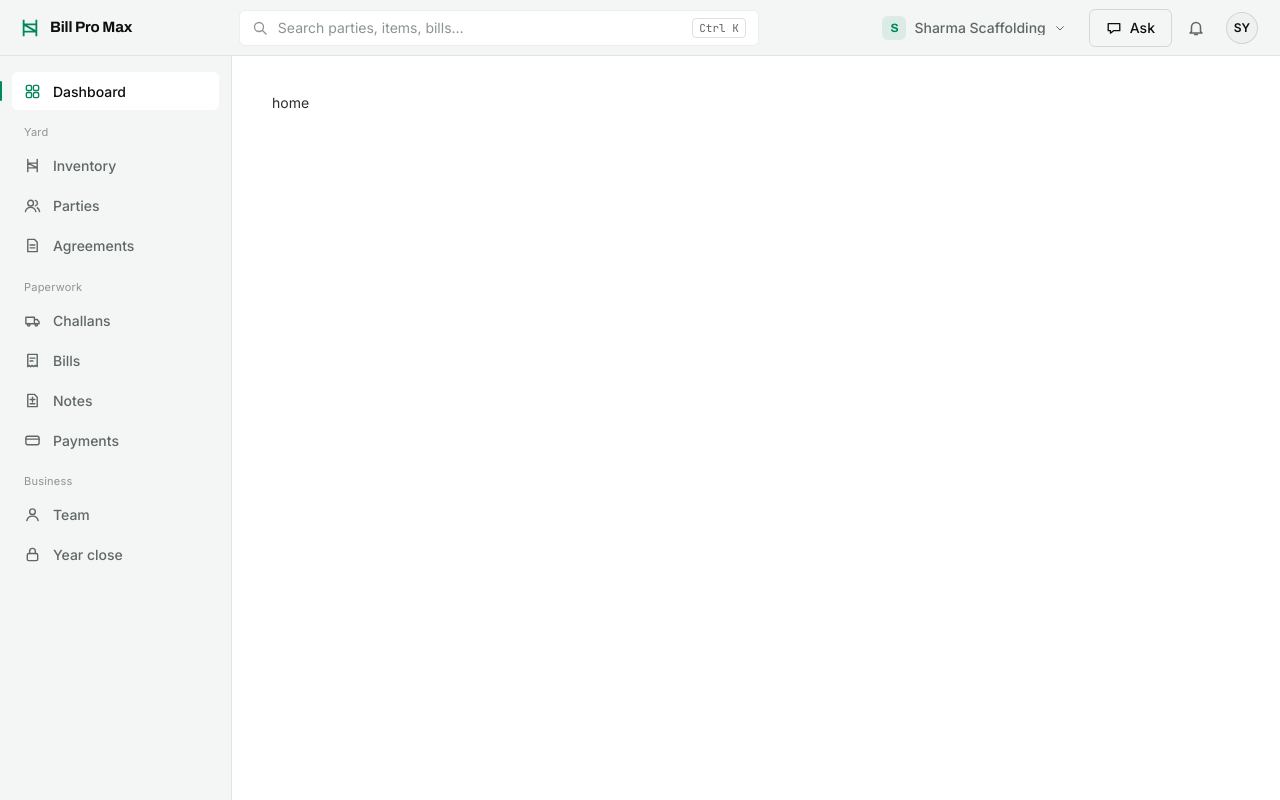
Layout › opens and closes the assistant from the Ask button
Click the button "Ask". click: (1130, 28)
box: [1089,8,1172,46]
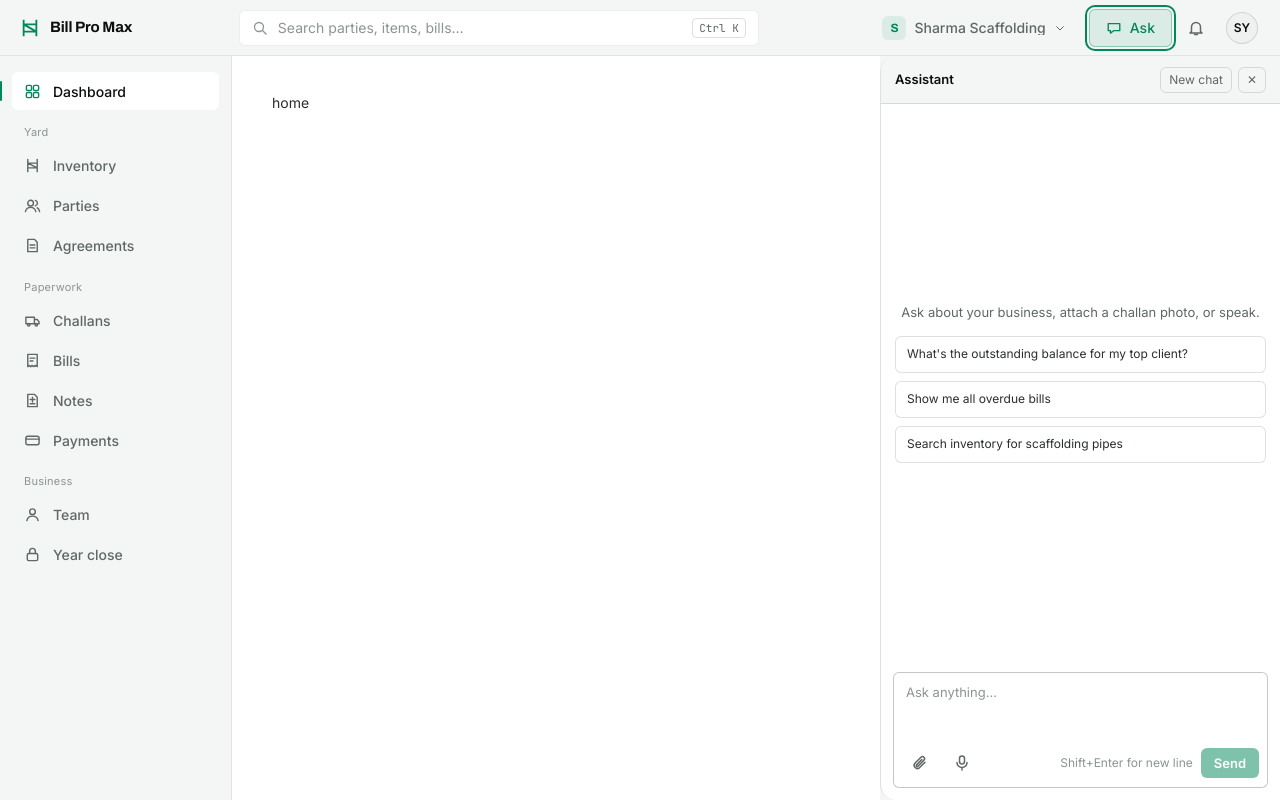
Expected: the element named "AI assistant" is shown, [880,56,1279,799]
Click the button "Ask". click: (1130, 28)
box: [1089,8,1172,46]
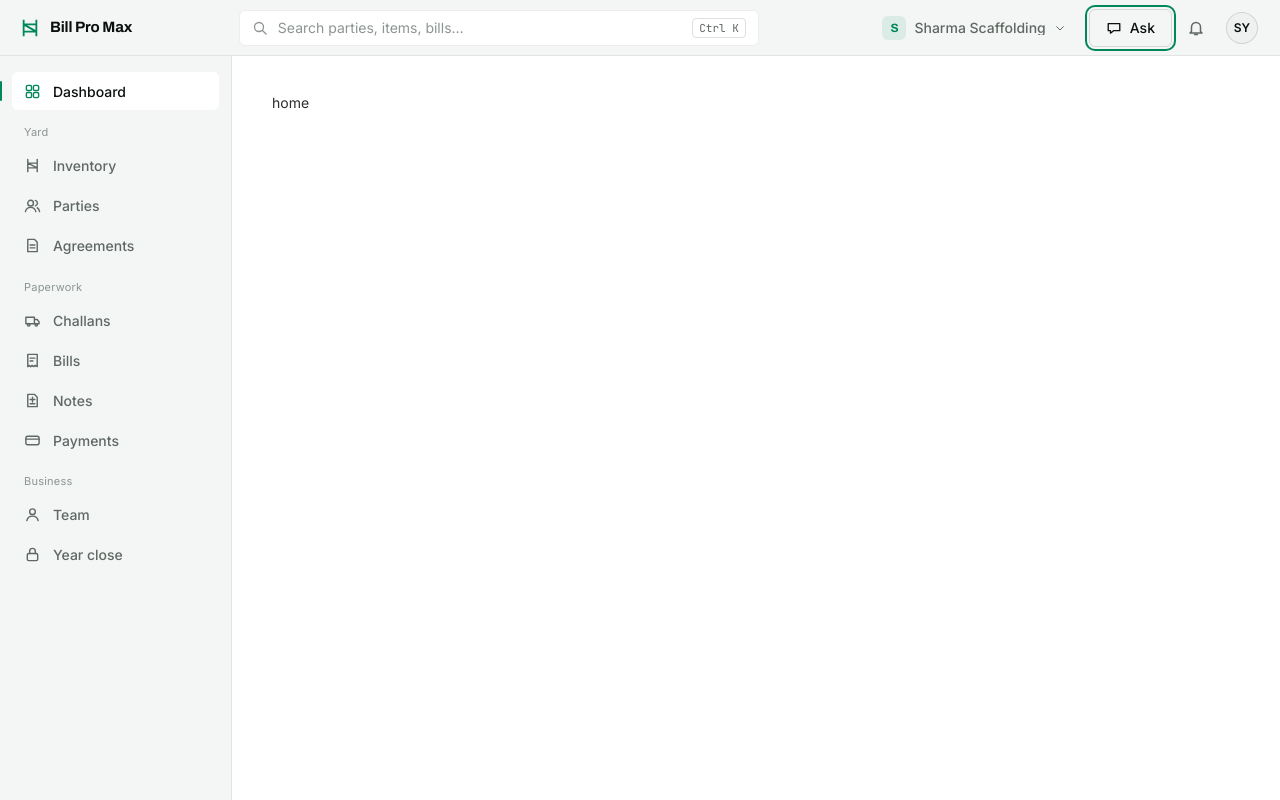
Expected: the button "Ask" is not pressed, [1089,8,1172,46]
